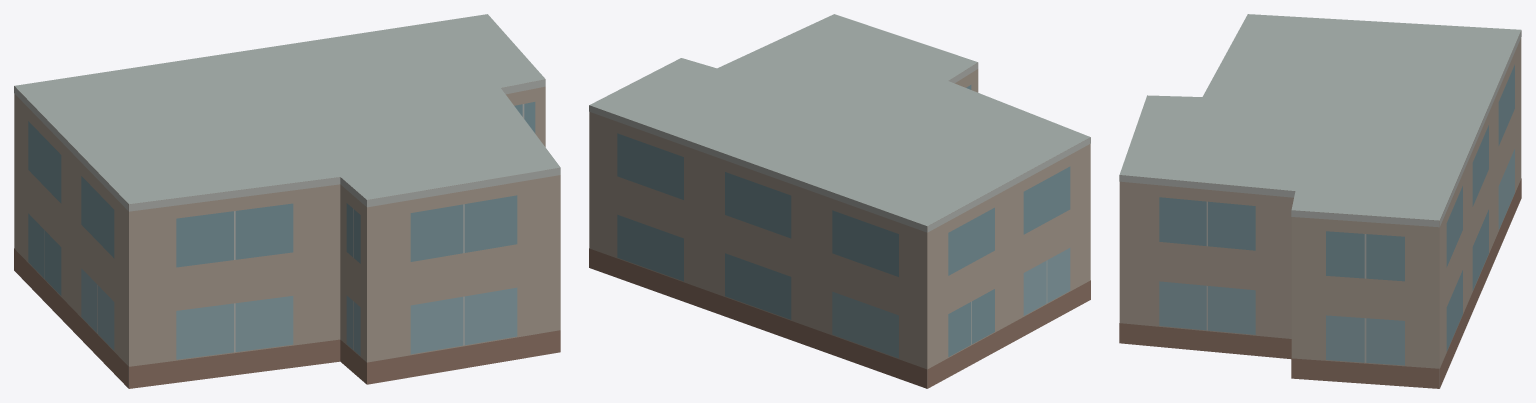
File: survey-upis-32669580.glb
3 renders of one model, left to right at view 1: azimuth 30°, elevation 25°; view 2: azimuth 150°, elevation 25°; view 3: azimuth 270°, elevation 25°, orthographic. The views are drawn at different scales.
Visible parts, largest first — view 1: survey-upis-32669580.tmp; view 2: survey-upis-32669580.tmp; view 3: survey-upis-32669580.tmp.
Part boxes in pixels (x1=…): survey-upis-32669580.tmp: x1=14, y1=14, x2=560, y2=388; survey-upis-32669580.tmp: x1=589, y1=14, x2=1090, y2=388; survey-upis-32669580.tmp: x1=1119, y1=14, x2=1521, y2=388.
Bounding box in the file's own units: 16.06 × 6.1 × 13.21.
